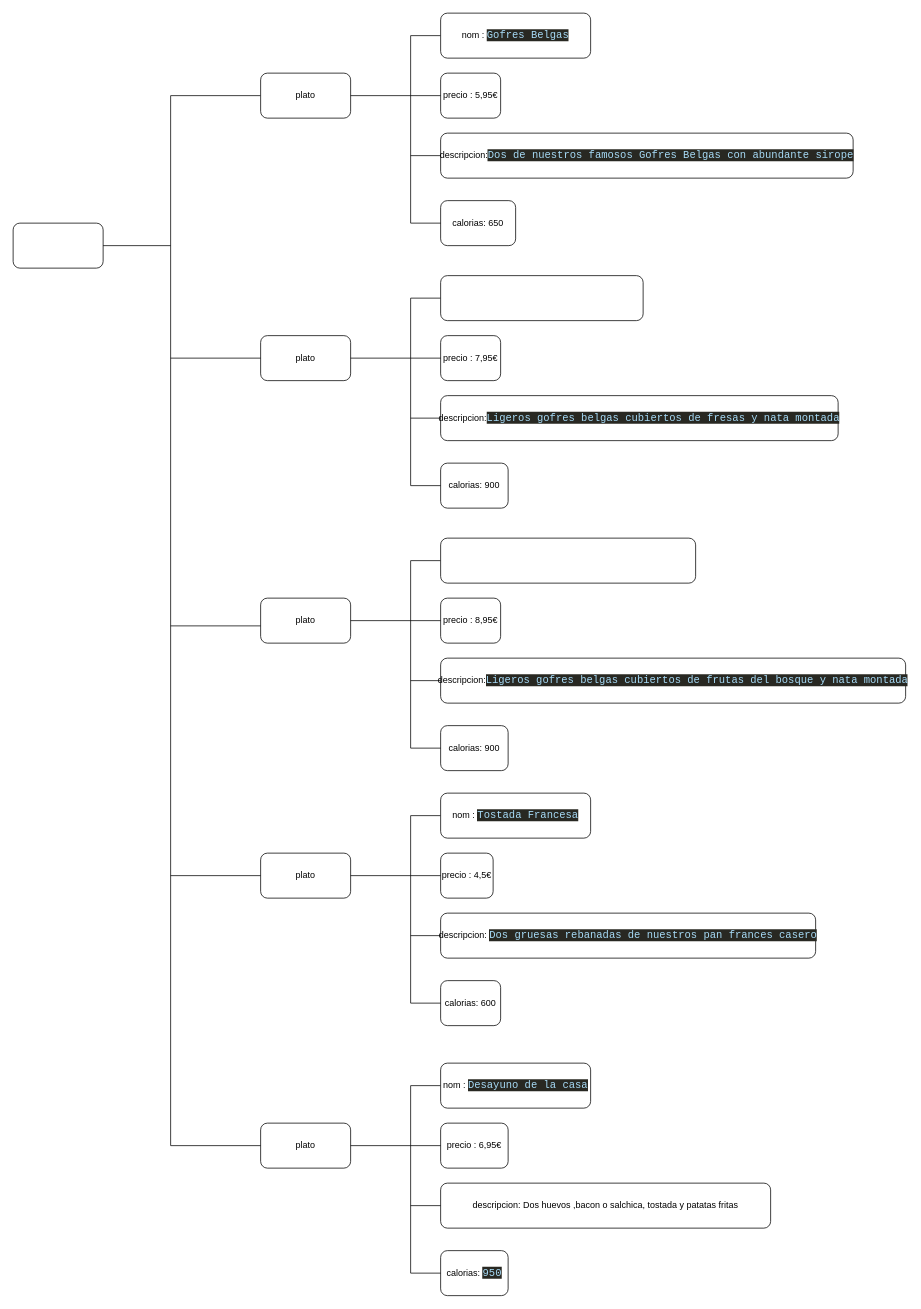
Some shapes in this 921 by 1309 pixel diagram are drawn without their labels. The centre of each missing label's shape, as x and y in pixels:
"carta" goes at point (57, 245).
"nom : Gofres Belgas con fresas" goes at point (541, 298).
"nom : Gofres Belgas con frutas del bosque" goes at point (568, 560).
